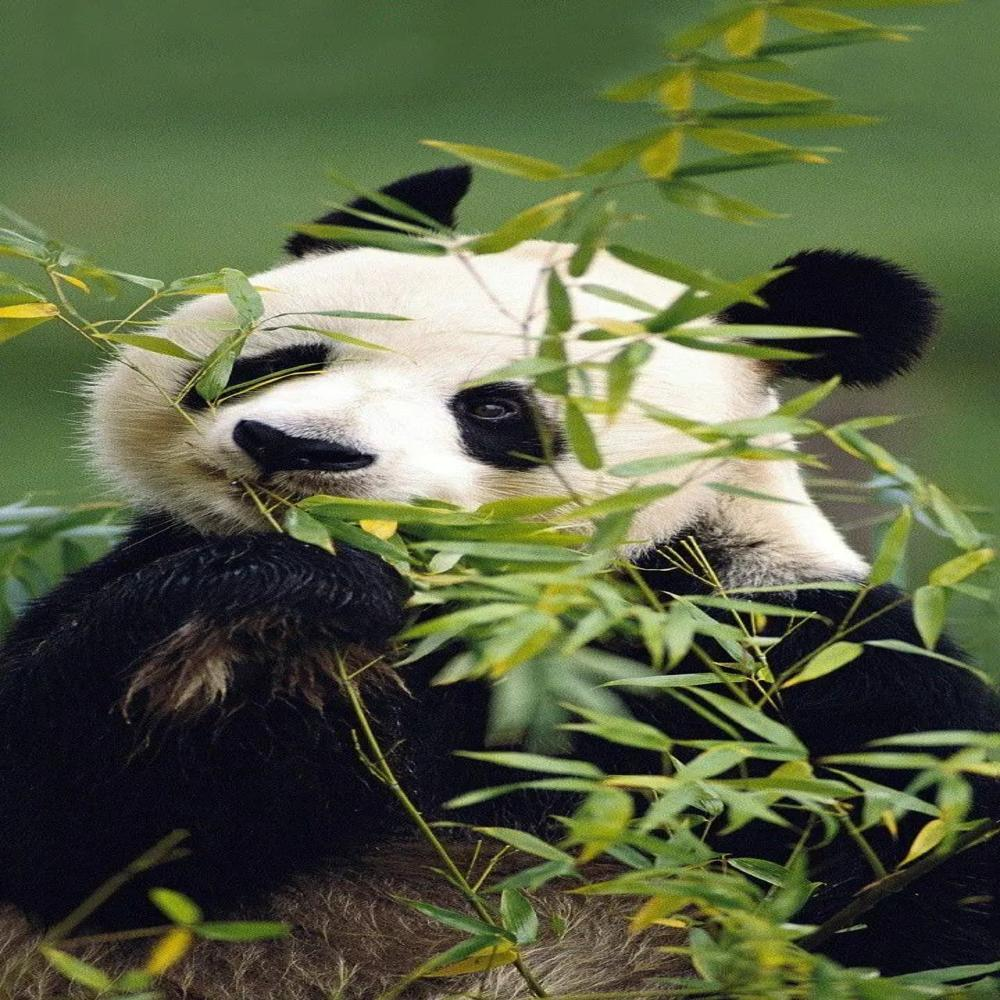panda: (4, 164, 1000, 942)
